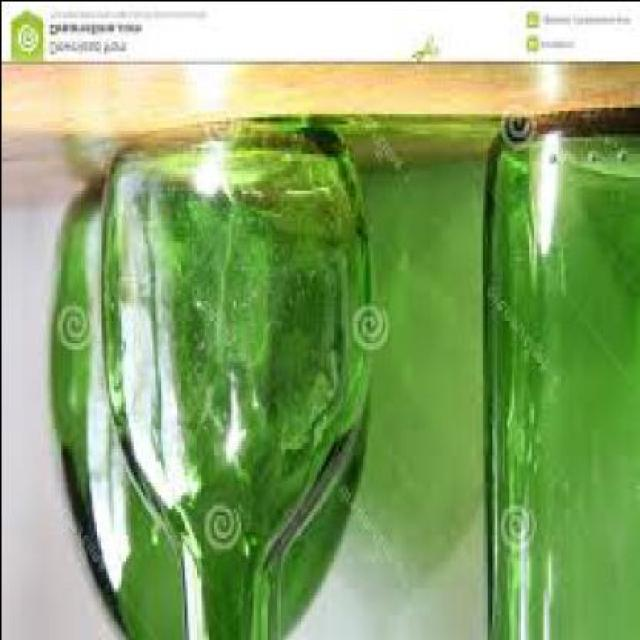GLASS: (48, 178, 368, 638), (97, 119, 369, 638), (480, 110, 638, 638)
